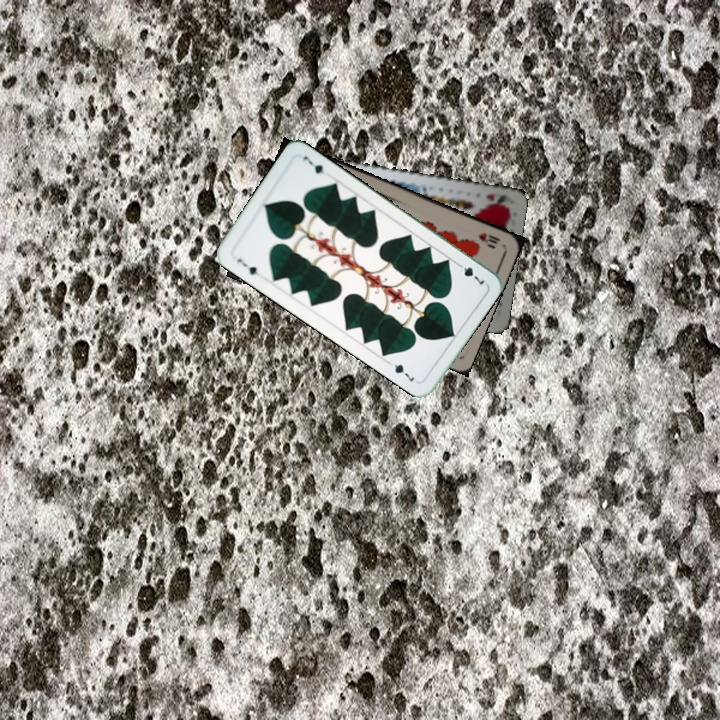G7: (452, 258, 487, 287), (233, 255, 260, 278)
H10: (474, 228, 503, 251)
HK: (482, 189, 512, 208)
